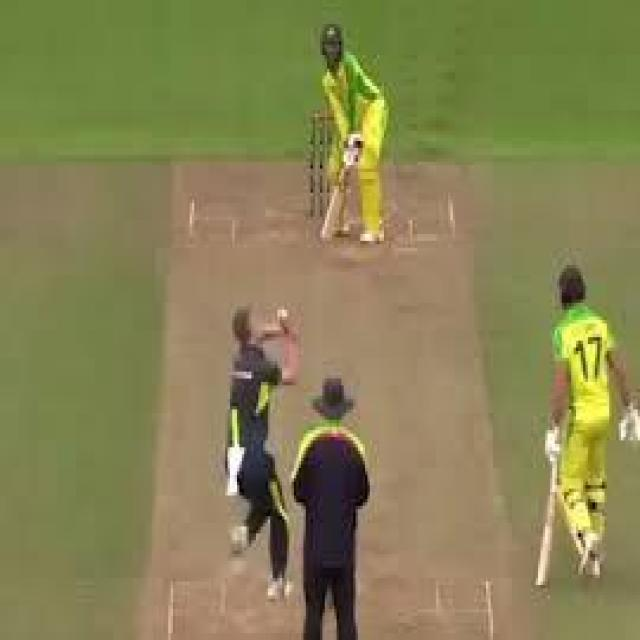bat: (535, 486, 558, 587), (322, 163, 348, 247)
toe: (319, 221, 342, 247), (535, 568, 554, 590)
